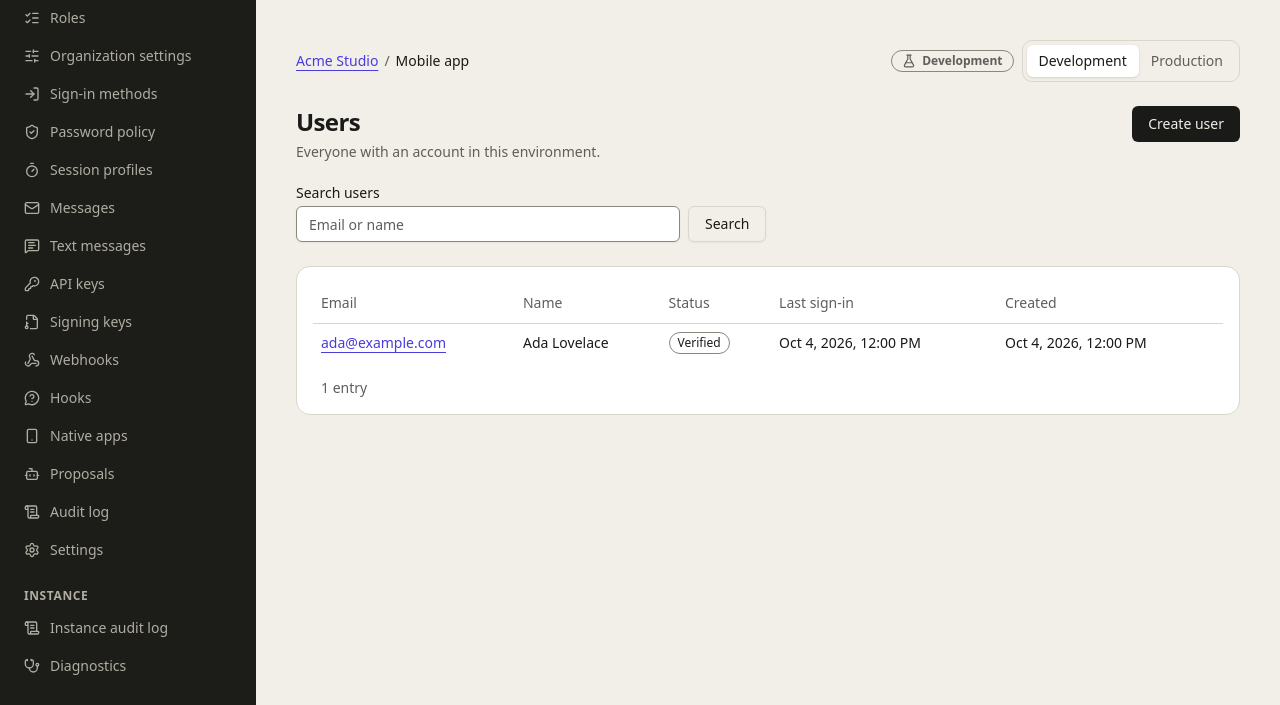
the list of endpoints › the navigation leads to it, and an environment without an endpoint says so
(page scrolled)
Click the link "Webhooks".
click(72, 360)  # box x1=24 y1=350 x2=119 y2=369
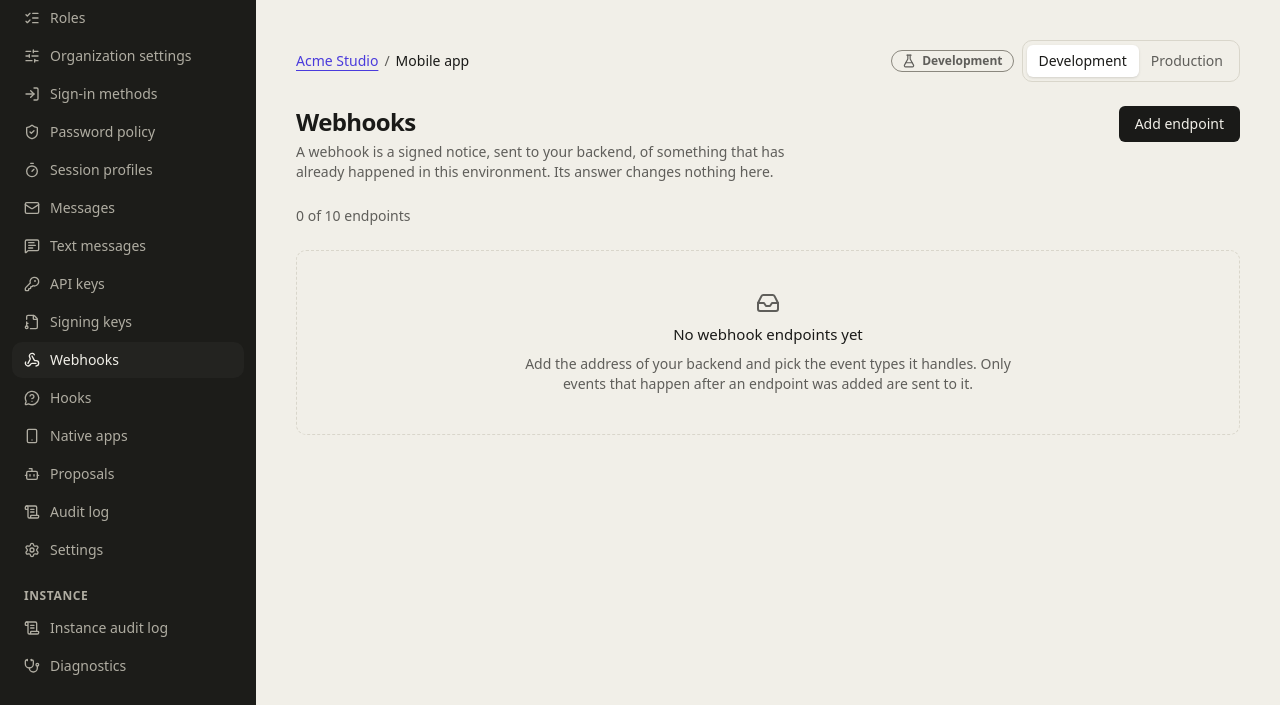
expect the text "No webhook endpoints yet" is shown: met, box x1=673 y1=323 x2=863 y2=346
expect the text "0 of 10 endpoints" is shown: met, box x1=296 y1=206 x2=410 y2=225
